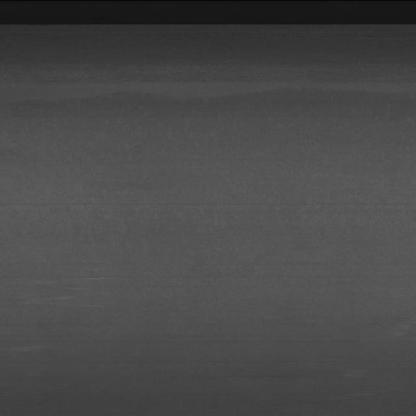silk_spot: (36, 251, 129, 324)
